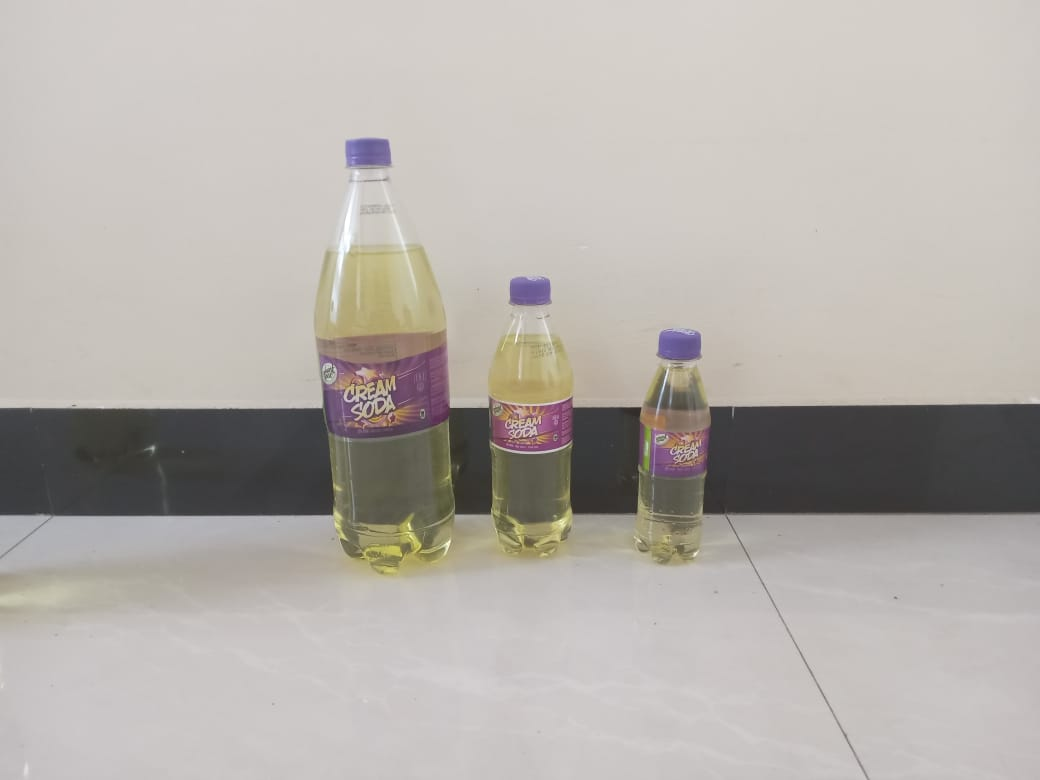L: (310, 137, 456, 572)
S: (484, 278, 581, 573)
Xs: (627, 329, 718, 566)
